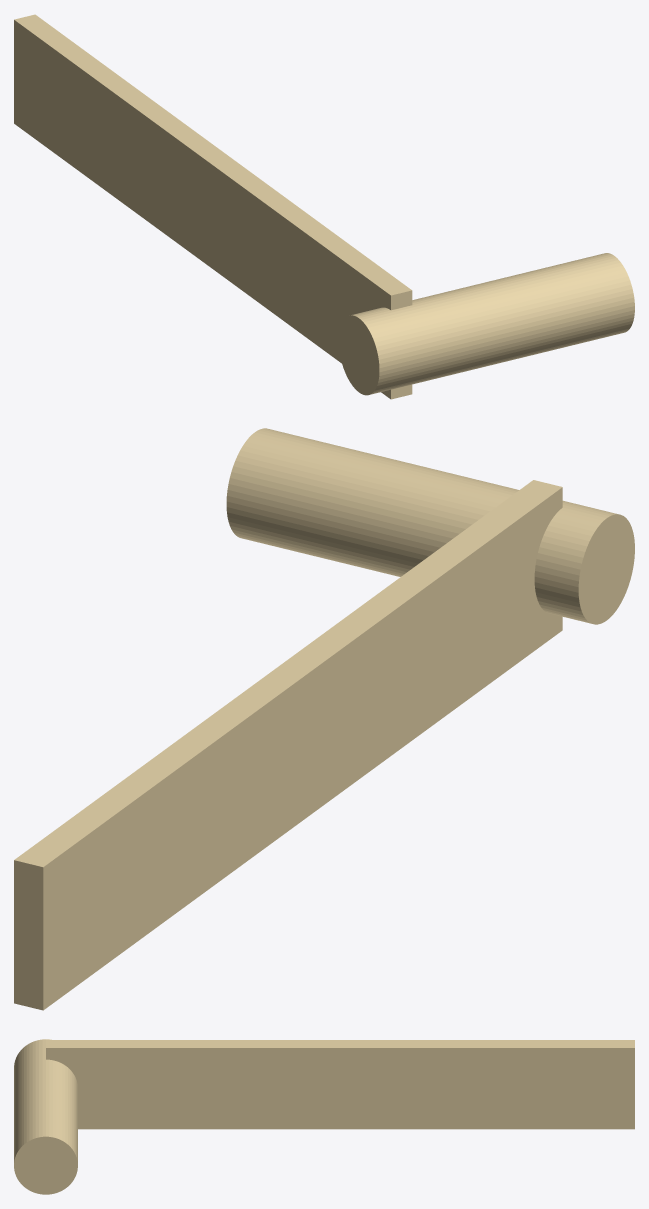
File: fan-clutch-control-valve.glb
3 views of the same model, one above another, from view 1: azimuth 30°, elevation 25°; view 2: azimuth 150°, elevation 25°; view 3: azimuth 270°, elevation 25° (orthographic). The views are drawn at different scales.
Parts seen in each view (by area): view 1: world; view 2: world; view 3: world.
Part boxes in pixels (bbox=[...]): world: bbox=[14, 14, 634, 399]; world: bbox=[14, 428, 634, 1010]; world: bbox=[14, 1039, 634, 1194].
Bounding box in the file's own units: 0.018 × 0.007 × 0.0485.
